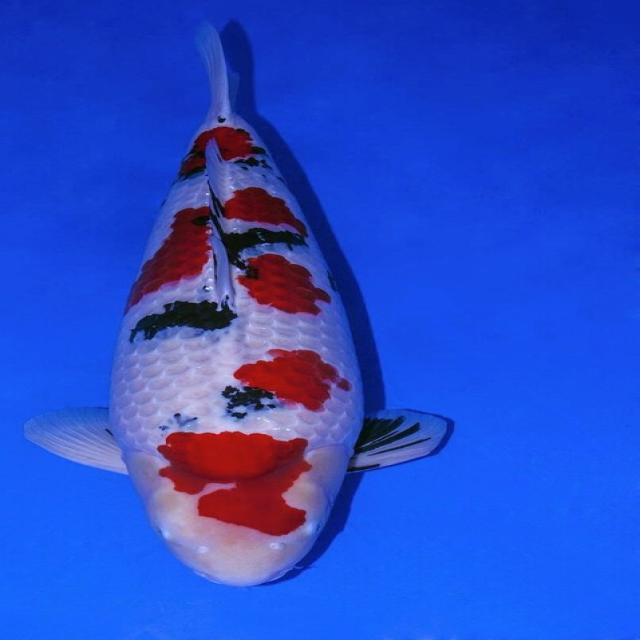Sanke: (23, 17, 451, 587)
